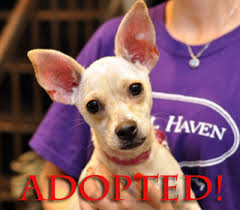chihuahua: (29, 1, 184, 172)
